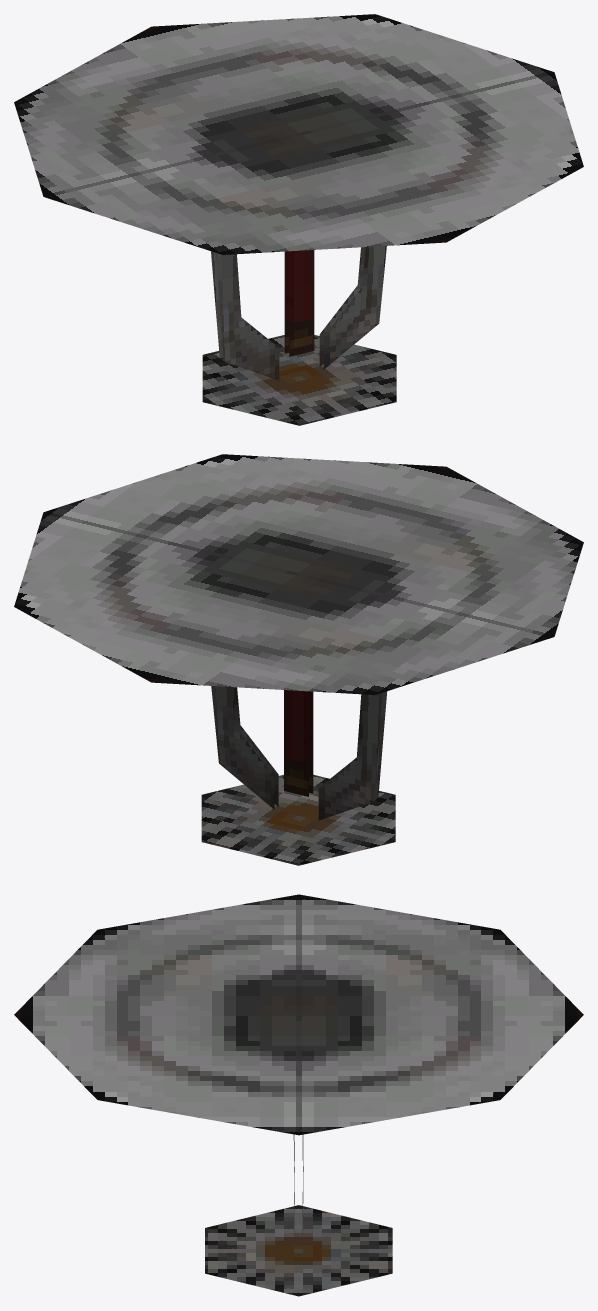
Rendered from p_rus_fire_sprnklr_lod2.glb.
3 views of the same model, one above another, from view 1: azimuth 30°, elevation 25°; view 2: azimuth 150°, elevation 25°; view 3: azimuth 270°, elevation 25° (orthographic). The views are drawn at different scales.
Visible parts, largest first — view 1: surf0; view 2: surf0; view 3: surf0.
Boxes of the visible parts, left/top/right/bottom form: surf0: left=14, top=14, right=583, bottom=425; surf0: left=14, top=454, right=583, bottom=865; surf0: left=14, top=894, right=583, bottom=1296.
Size of the model in its own units: 8.7 by 3.97 by 8.7.
